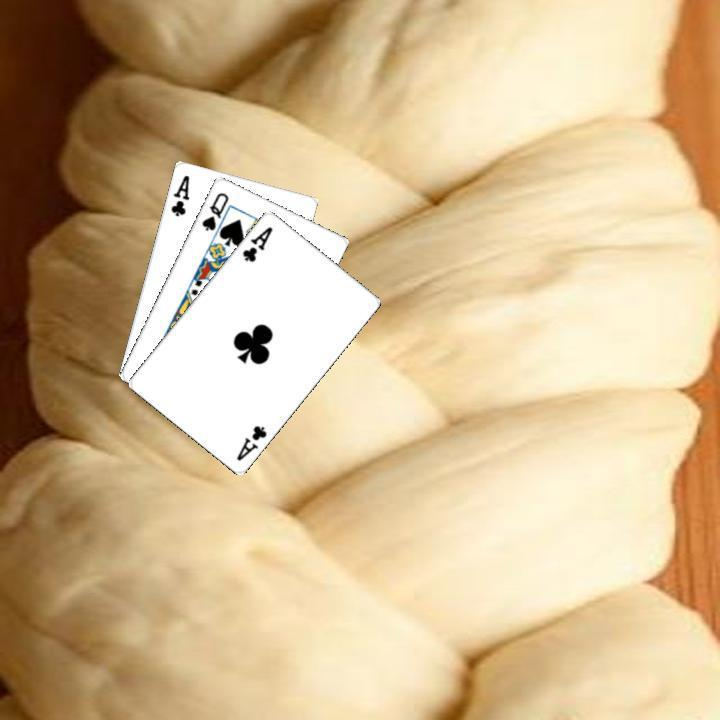A: (238, 222, 275, 264), (232, 420, 269, 462), (166, 170, 191, 218)
Q: (197, 188, 231, 233)
